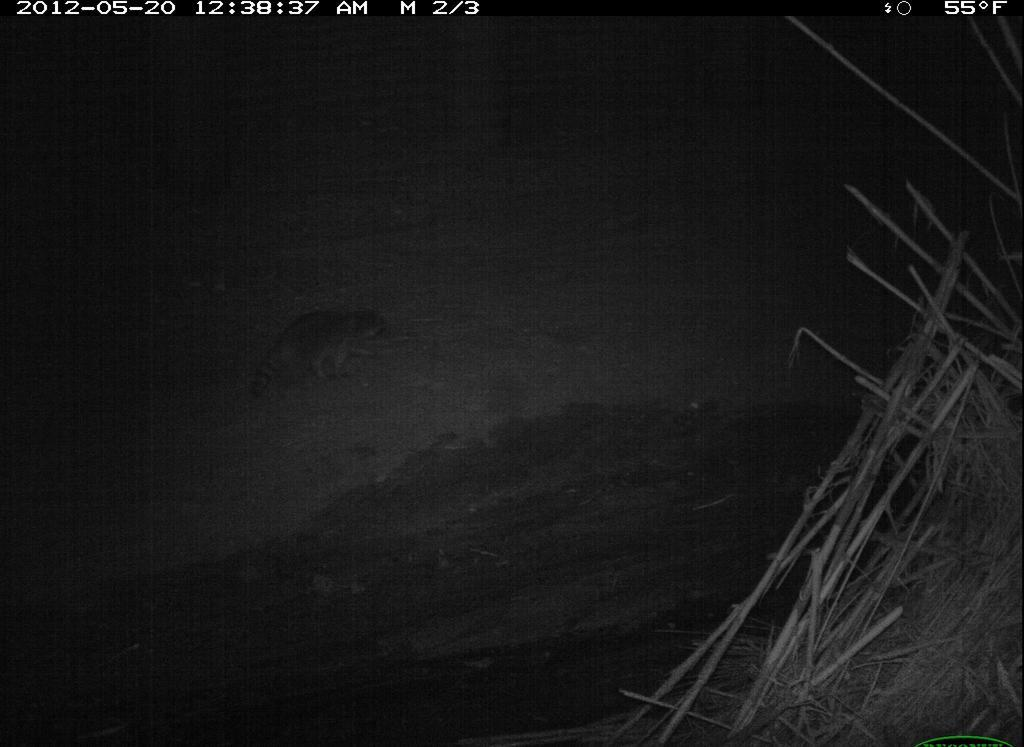raccoon: (227, 290, 399, 415)
